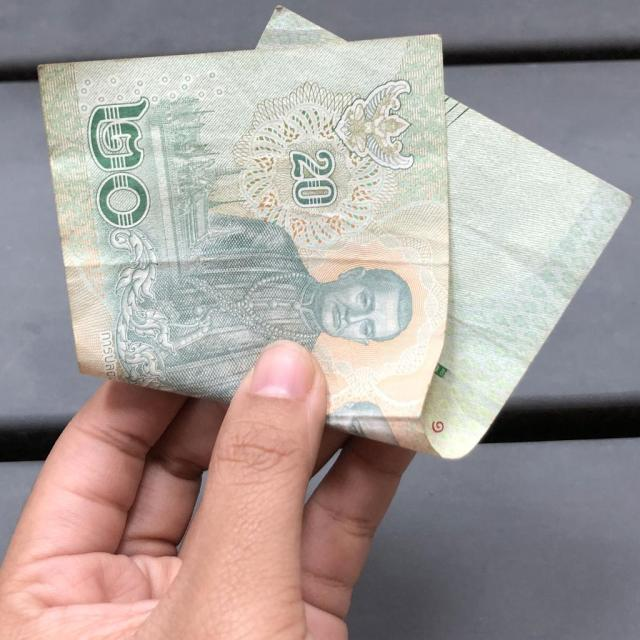THAI20: (39, 8, 630, 458)
